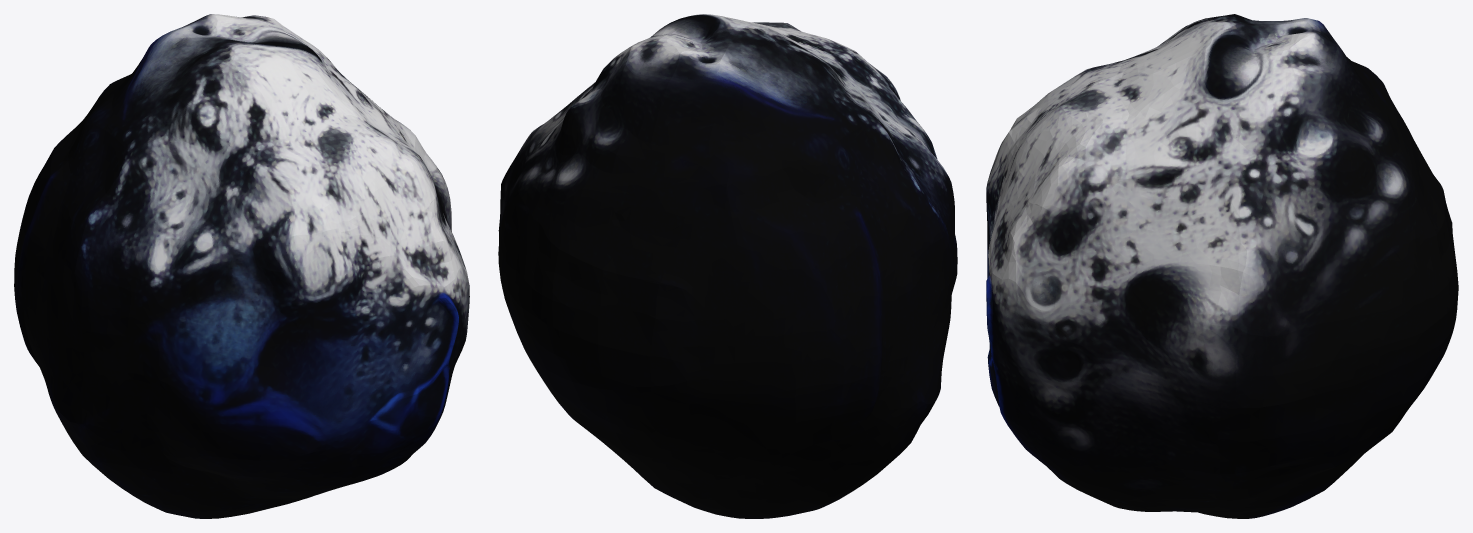
Rendered from Asteroid 4.glb.
3 views of the same model, side by side, from view 1: azimuth 30°, elevation 25°; view 2: azimuth 150°, elevation 25°; view 3: azimuth 270°, elevation 25° (orthographic). The views are drawn at different scales.
Parts seen in each view (by area): view 1: world; view 2: world; view 3: world.
Part boxes in pixels (x1,y1,x2,y2): world: [14, 14, 469, 518]; world: [498, 14, 957, 518]; world: [986, 14, 1458, 518].
Size of the model in its own units: 0.8934 by 0.9982 by 0.8674.
Materials: 1 (1 with a texture image).
